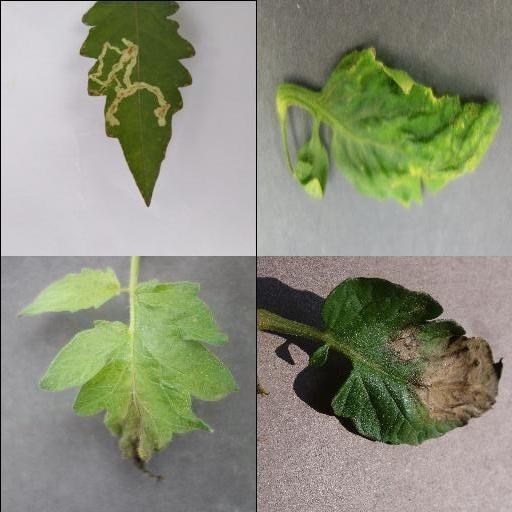Healthy: (15, 266, 121, 316)
Late Blight: (39, 278, 239, 486), (321, 277, 503, 445)
Leaf Miner: (77, 0, 197, 209)
Yellow Leaf Curl Virus: (321, 46, 501, 209)
